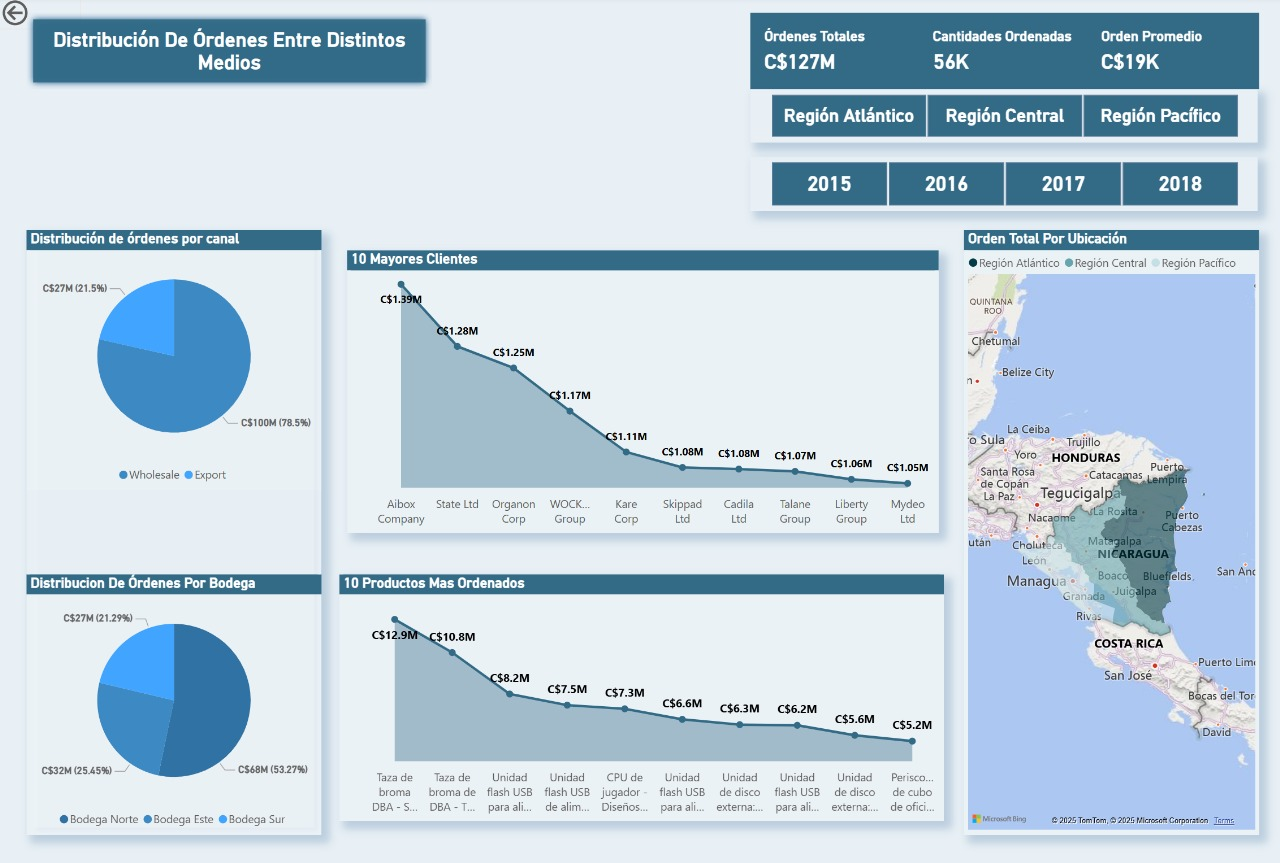

The dashboard page shown, as its layout file describes it:
{"tool":"powerbi","page":{"name":"Reporte","canvas":[1550,1050],"ordinal":0},"visuals":[{"type":"actionButton","box":[1007.3,65.9,131.8,36.8],"z":0},{"type":"shape","box":[33.7,282.1,355.7,729.8],"z":1000},{"type":"shape","box":[906.1,19.9,613.3,92],"z":2000},{"type":"filledMap","title":"Orden Total Por Ubicación ","fields":{"Series":["Regiones.Territorio"],"Category":["Regiones.Ubicación_Completa"]},"box":[1163.6,282.1,355.7,729.8],"z":3000},{"type":"actionButton","box":[0,0,100,40],"z":4000},{"type":"pieChart","title":"Distribución de órdenes por canal","fields":{"Category":["Ventas.Canal"],"Y":["Ventas.Total_orden"]},"box":[33.7,282.1,355.7,314.3],"z":5000},{"type":"areaChart","title":"10 Mayores Clientes","fields":{"Category":["Clientes.Clientes_Nombres"],"Y":["Ventas.Total_orden","select"]},"box":[420.1,306.6,712.9,340.4],"z":6000},{"type":"actionButton","box":[33.7,19.9,489.1,92],"z":7000},{"type":"slicer","fields":{"Values":["Ventas.Year"]},"box":[906.1,193.2,611.7,65.9],"z":8000},{"type":"slicer","fields":{"Values":["Regiones.Territorio"]},"box":[906.1,111.9,611.7,64.4],"z":9000},{"type":"cardVisual","fields":{"Data":["Ventas.Total_orden","Ventas.Cantidad_Orden","Avg(Ventas.Total_orden)1"]},"box":[906.1,19.9,613.3,92],"z":10000},{"type":"areaChart","title":"10 Productos Mas Ordenados","fields":{"Category":["Productos.Nombre_Producto"],"Y":["Ventas.Total_orden"]},"box":[410.9,697.6,728.2,297.4],"z":11000},{"type":"pieChart","title":"Distribucion De Órdenes Por Bodega","fields":{"Y":["Ventas.Total_orden"],"Category":["Código_Bodega.Bodega"]},"box":[33.7,697.6,355.7,314.3],"z":12000}]}

Visuals, with their boxes in screenshot pixels (x1, y1, x2, y2):
actionButton: BBox(837, 49, 948, 80)
shape: BBox(18, 230, 317, 844)
shape: BBox(752, 10, 1267, 87)
"Orden Total Por Ubicación " filledMap: BBox(968, 230, 1267, 844)
actionButton: BBox(0, 0, 74, 27)
"Distribución de órdenes por canal" pieChart: BBox(18, 230, 317, 495)
"10 Mayores Clientes" areaChart: BBox(343, 251, 942, 537)
actionButton: BBox(18, 10, 429, 87)
slicer - Ventas.Year: BBox(752, 156, 1266, 211)
slicer - Regiones.Territorio: BBox(752, 87, 1266, 142)
cardVisual - Ventas.Total_orden x Ventas.Cantidad_Orden: BBox(752, 10, 1267, 87)
"10 Productos Mas Ordenados" areaChart: BBox(335, 580, 948, 830)
"Distribucion De Órdenes Por Bodega" pieChart: BBox(18, 580, 317, 844)
